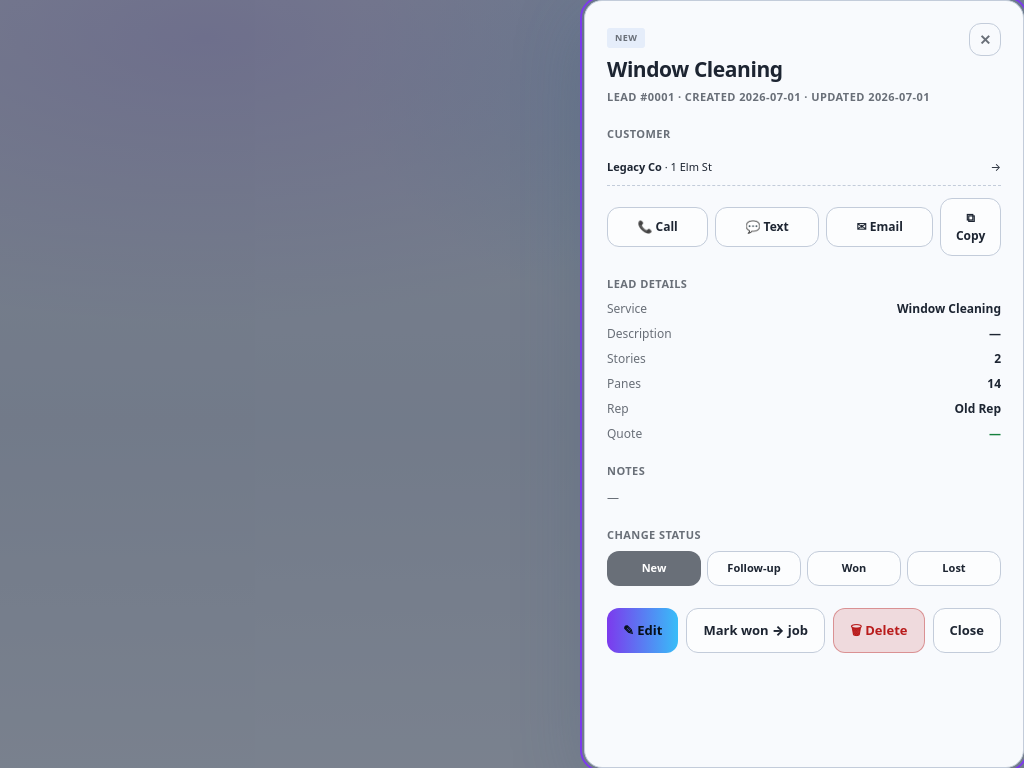
Test case: LeadDrawer Rep select for a rep_id absent from the current options (demoted/legacy) › renders a (legacy) option so defaultValue resolves to the lead's actual rep
Step 1. Click the button "✎ Edit" → {"x": 643, "y": 630}, box [607,608,678,653]
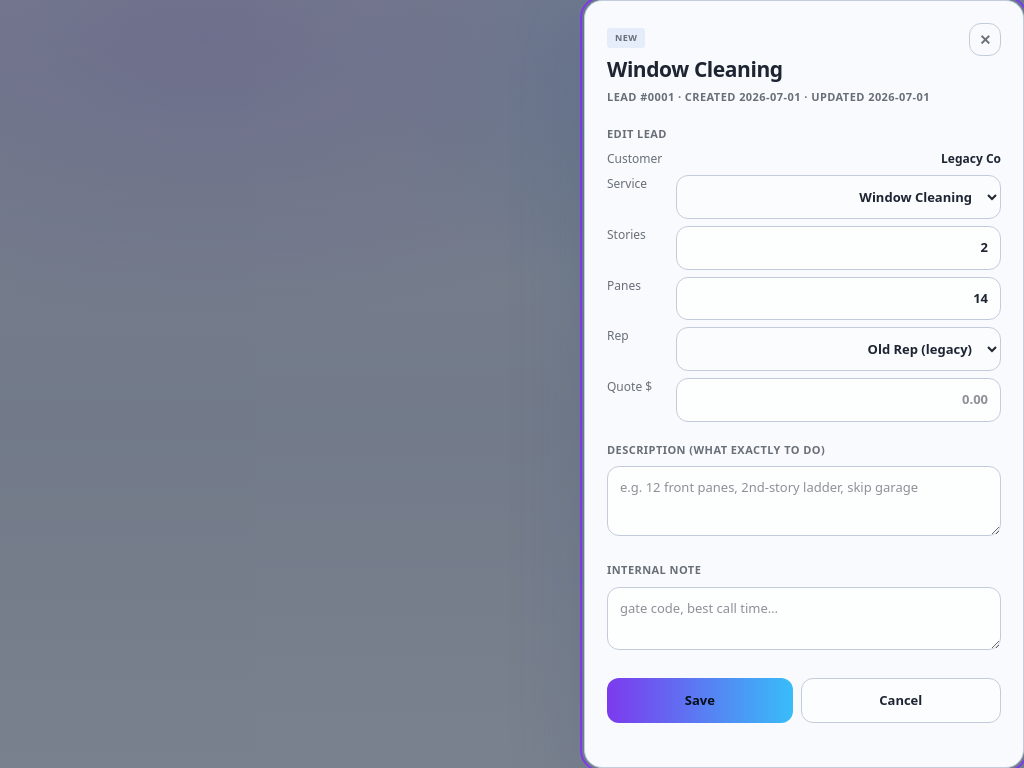
Check: the 2nd dropdown named "rep_id" shows "Old Rep (legacy)", box [676,327,1001,371]
